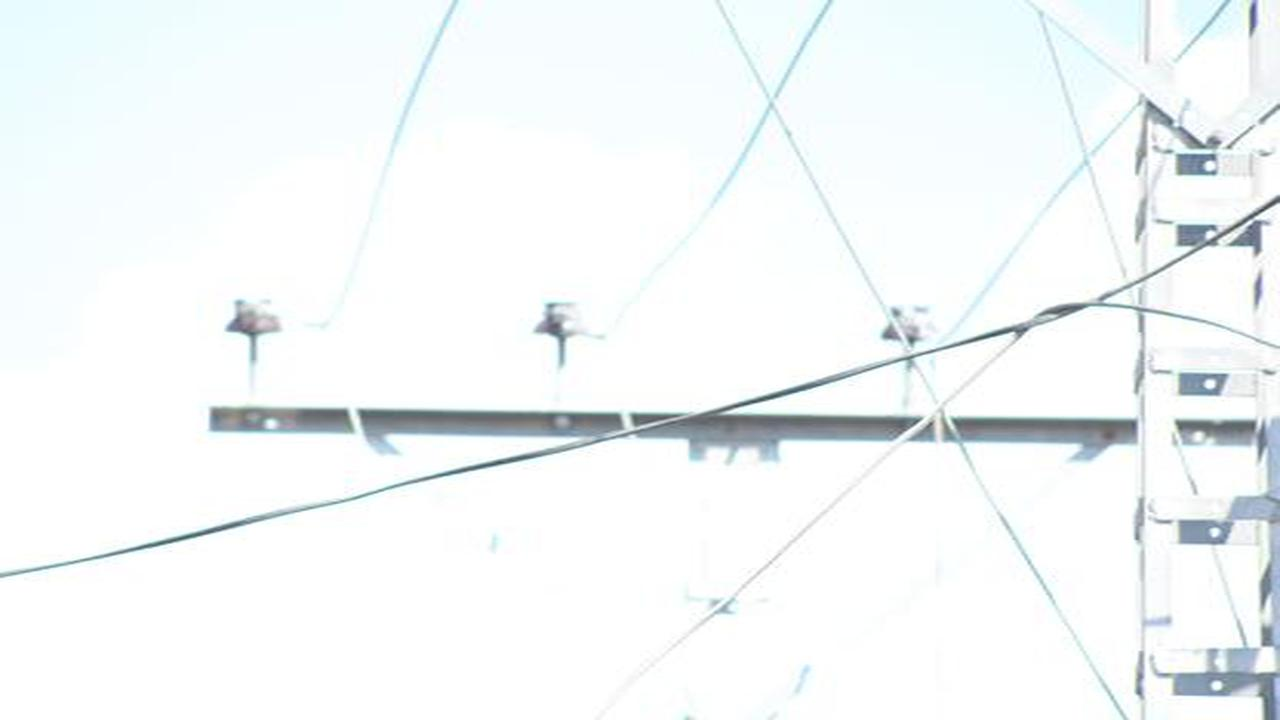insulator_pin: (221, 292, 286, 342), (533, 298, 593, 347), (880, 303, 944, 348)
